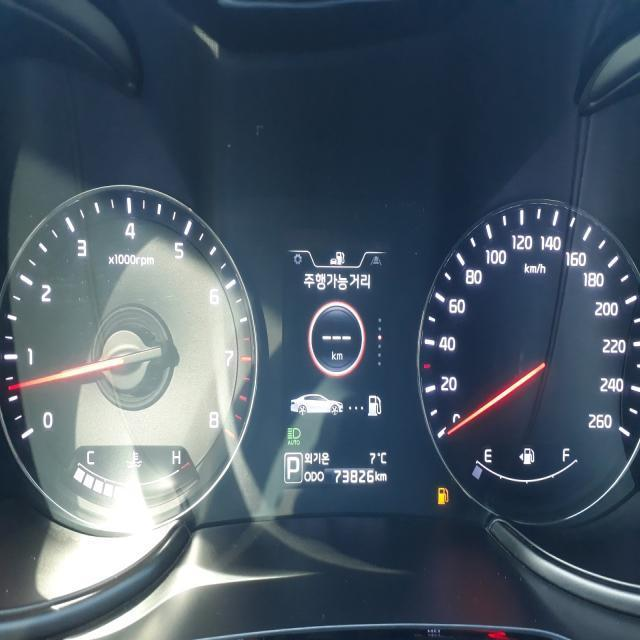Low fuel level: (436, 484, 448, 506)
